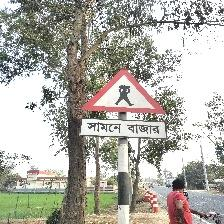Market-in-front: (79, 67, 168, 139)
